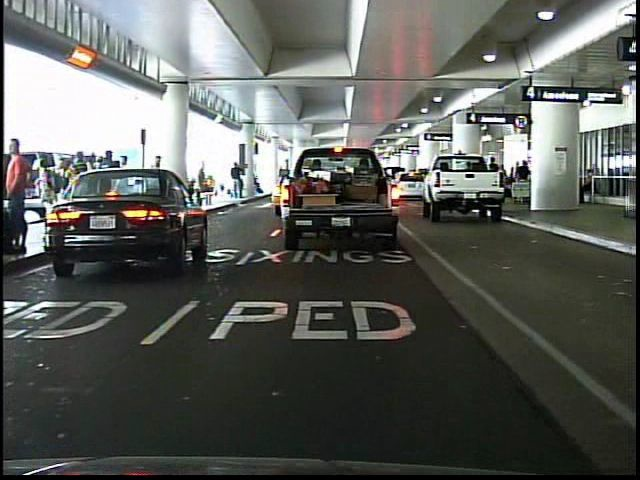person: (11, 136, 35, 258), (147, 151, 170, 221), (194, 157, 214, 222), (231, 161, 249, 200)
